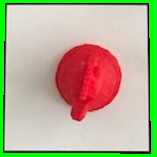Red Knight: (48, 40, 124, 124)
